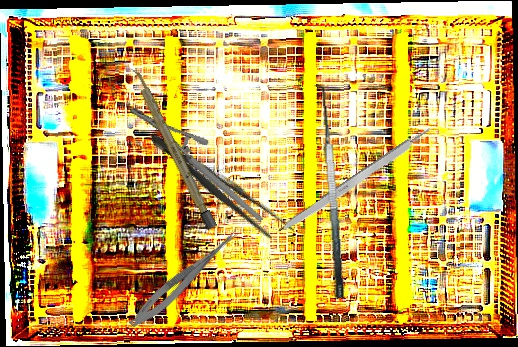Dressing Forceps: (142, 125, 298, 248)
Micro Scissor: (125, 220, 245, 334)
Needle Holder: (128, 79, 265, 251)
Scalpel Handle: (275, 124, 437, 238), (129, 65, 218, 232)
Spatula Surgical: (305, 84, 347, 300)
